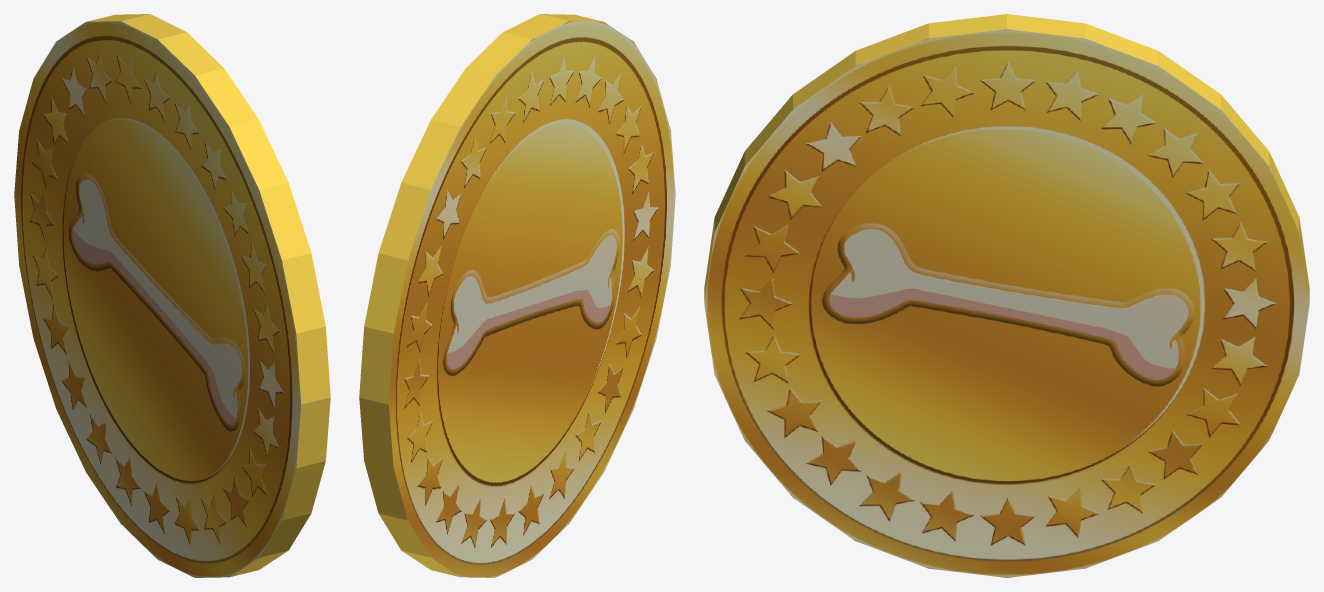
File: moedaTex.fbx
3 renders of one model, left to right at view 1: azimuth 30°, elevation 25°; view 2: azimuth 150°, elevation 25°; view 3: azimuth 270°, elevation 25°, orthographic. The views are drawn at different scales.
Parts seen in each view (by area): view 1: Group1; view 2: Group1; view 3: Group1.
Part boxes in pixels (x1,y1,x2,y2): Group1: [14, 14, 330, 577]; Group1: [359, 14, 675, 577]; Group1: [704, 14, 1309, 577].
Size of the model in its own units: 1.03 by 17.28 by 17.28.
